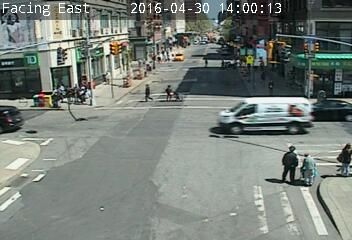neg: (97, 161, 124, 197), (22, 140, 49, 176), (131, 148, 154, 178), (179, 171, 201, 201), (286, 2, 307, 30), (64, 120, 84, 147), (303, 34, 322, 61), (46, 29, 65, 54), (184, 15, 201, 39), (122, 106, 139, 129), (211, 98, 228, 120), (293, 99, 309, 120), (117, 29, 131, 49), (319, 70, 333, 88), (251, 10, 264, 28), (148, 18, 159, 34), (88, 55, 99, 70), (226, 15, 237, 29)
pos: (272, 141, 305, 184), (293, 151, 323, 191), (332, 139, 351, 178), (138, 79, 154, 100), (163, 83, 177, 102), (171, 82, 185, 100), (264, 78, 277, 95), (261, 71, 270, 83), (218, 58, 227, 69), (204, 58, 209, 66)
